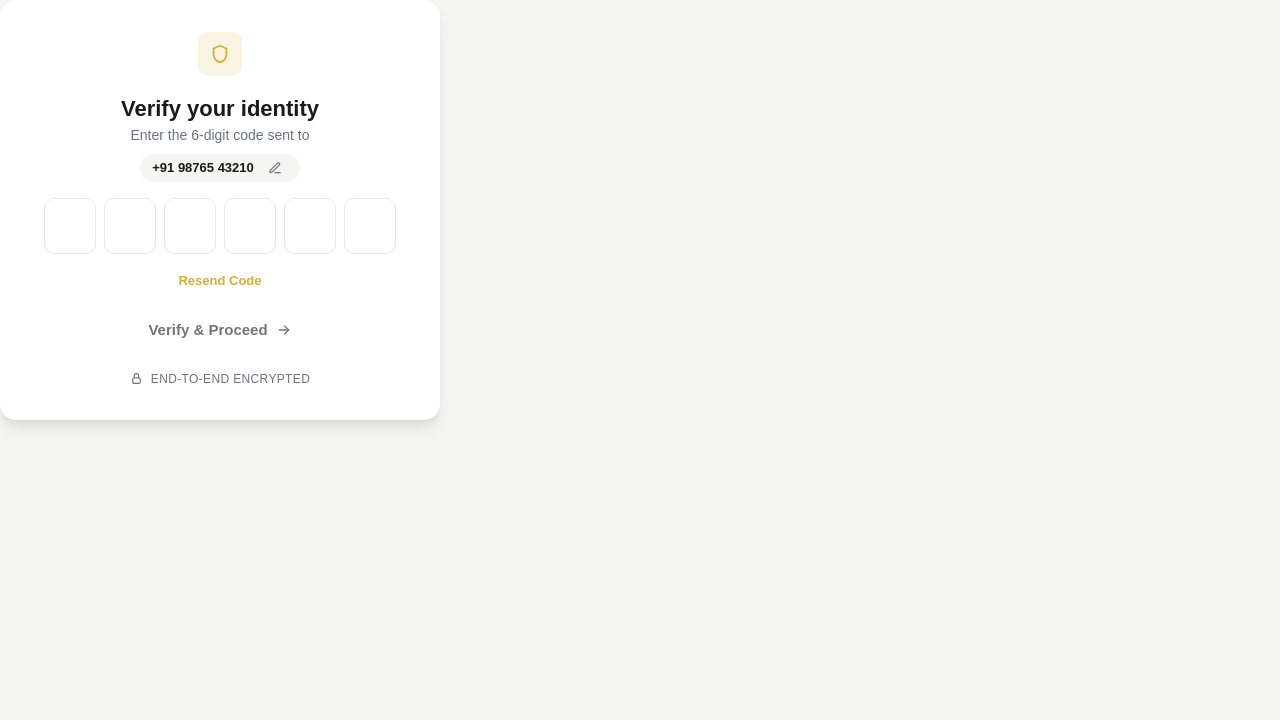
it: OtpForm › resending › explains the cooldown when resending is rate limited
What coordinates should you click on to do the following:
click the button "Resend Code"
I would click on:
 (220, 280)
Its box is [172, 270, 268, 291].
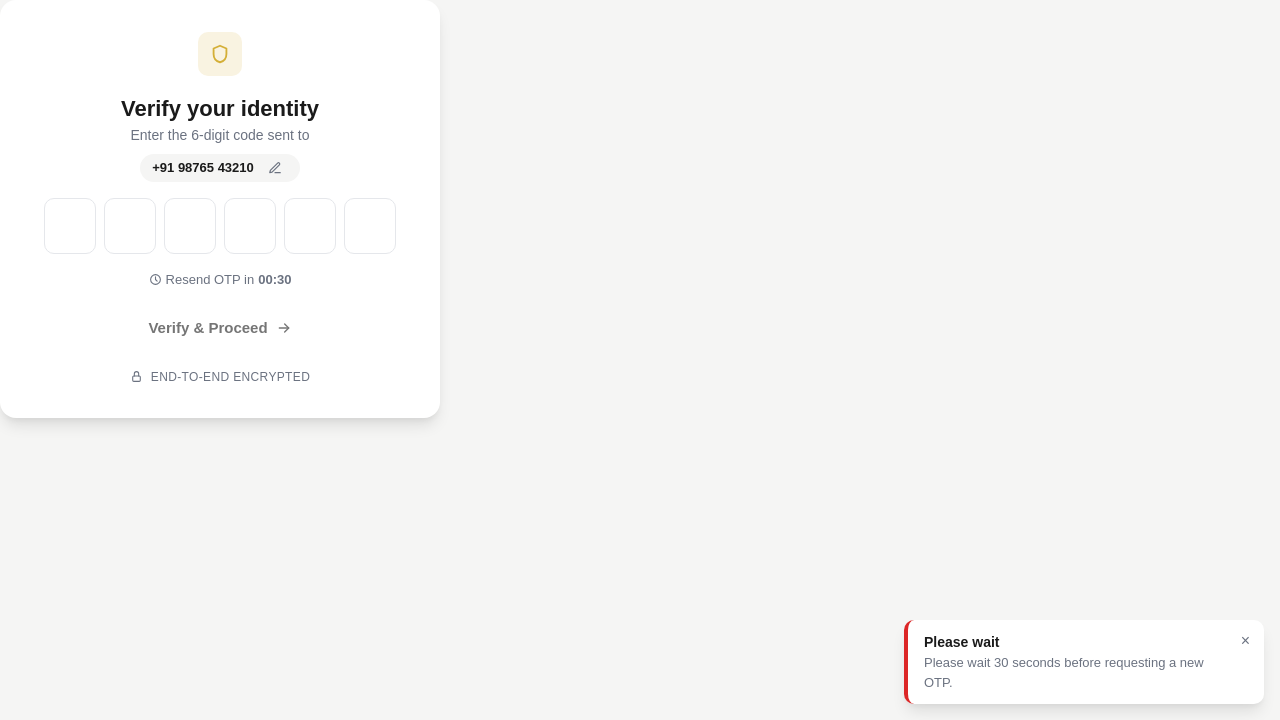
Expected: the text "Please wait" is shown, [924, 634, 1000, 650]
Expected: the text "Please wait 30 seconds before requesting a new OTP." is shown, [924, 653, 1232, 692]
